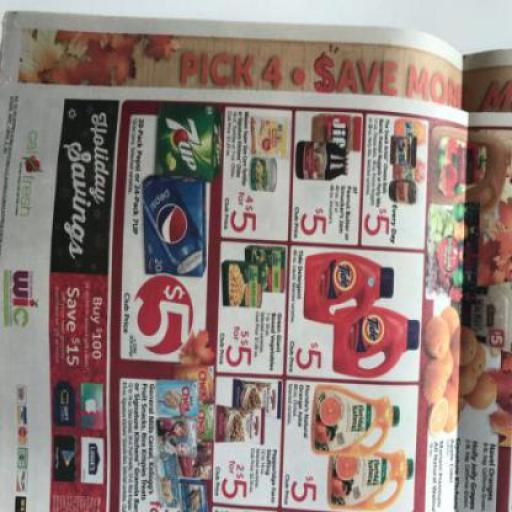paper: (1, 12, 511, 511)
